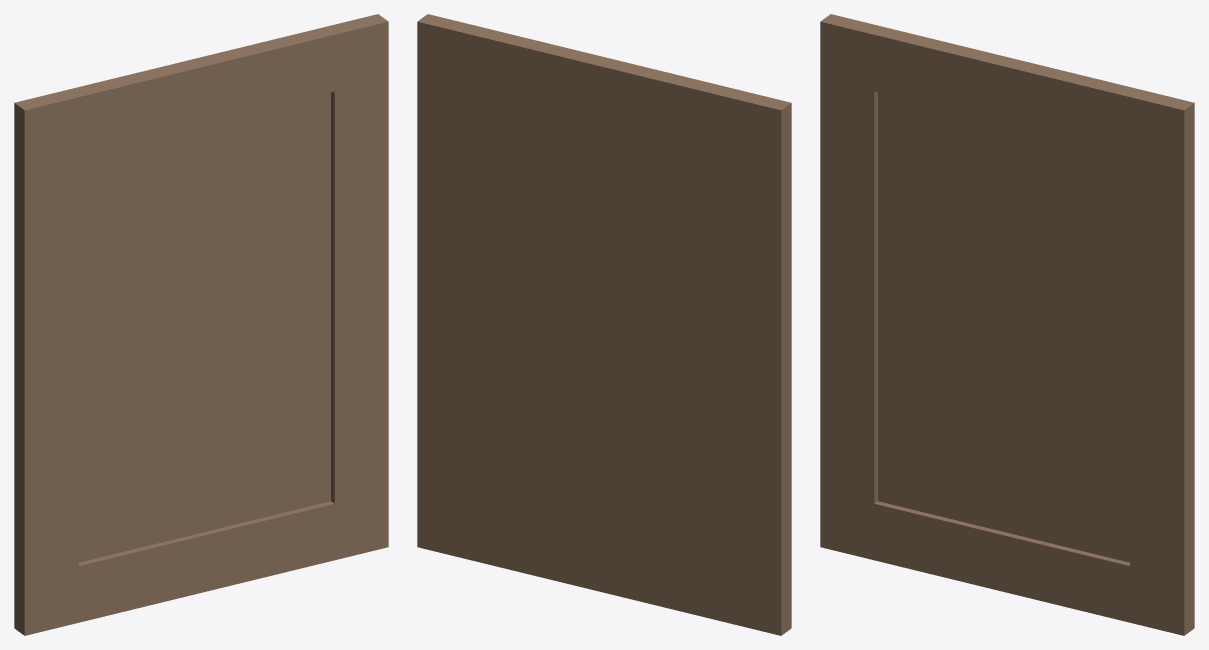
Rendered from door_07.obj.
The picture shows the model from 3 angles, left to right: view 1: azimuth 30°, elevation 25°; view 2: azimuth 150°, elevation 25°; view 3: azimuth 330°, elevation 25°; orthographic projection.
Parts seen in each view (by area): view 1: door_07; view 2: door_07; view 3: door_07.
Boxes of the visible parts, <box> form: door_07: <box>14,14,388,635</box>; door_07: <box>417,14,791,635</box>; door_07: <box>820,14,1194,635</box>.
Size of the model in its own units: 384 by 530 by 19.05.
